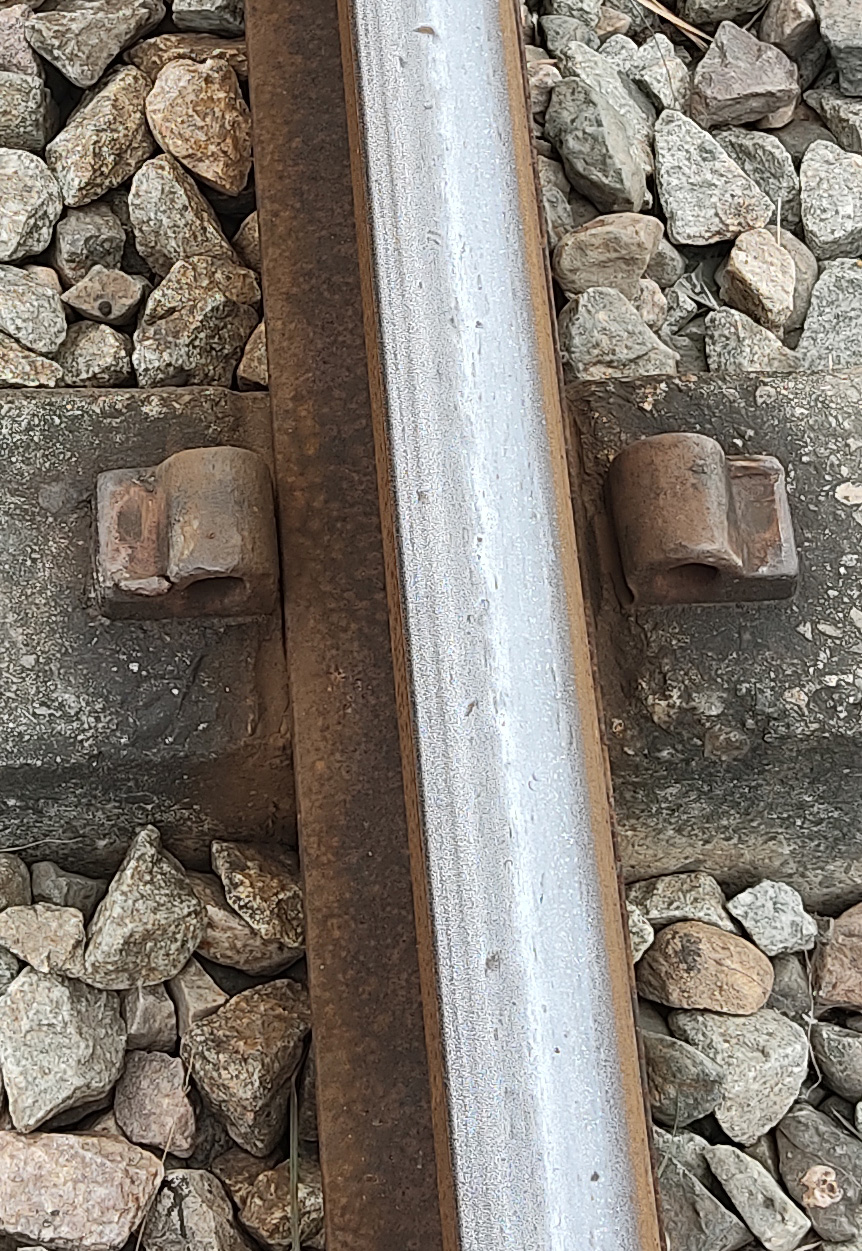error1: (58, 382, 329, 695), (555, 385, 829, 686)
